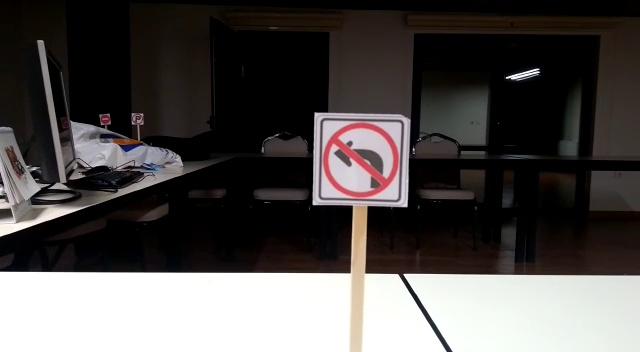sola_donulmez: (316, 122, 407, 200)
